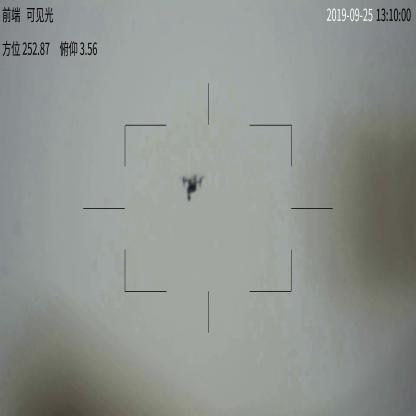uav: (180, 174, 205, 203)
